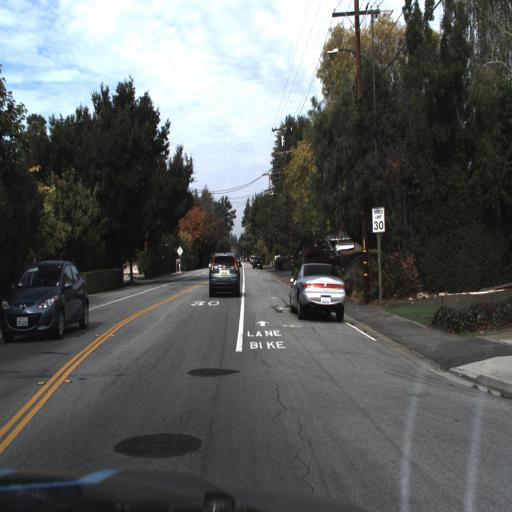car: (0, 260, 91, 344), (285, 255, 347, 324), (290, 229, 346, 265), (205, 248, 242, 299), (249, 254, 266, 276)
